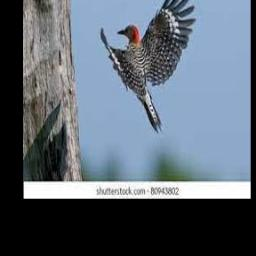Woodpecker: (100, 0, 196, 133)
